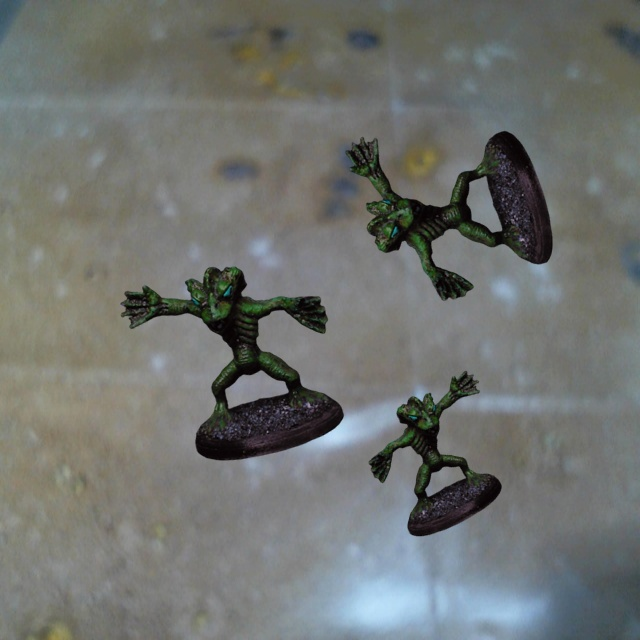pieza_juego: (120, 266, 343, 460), (345, 131, 552, 300), (368, 371, 501, 535)
